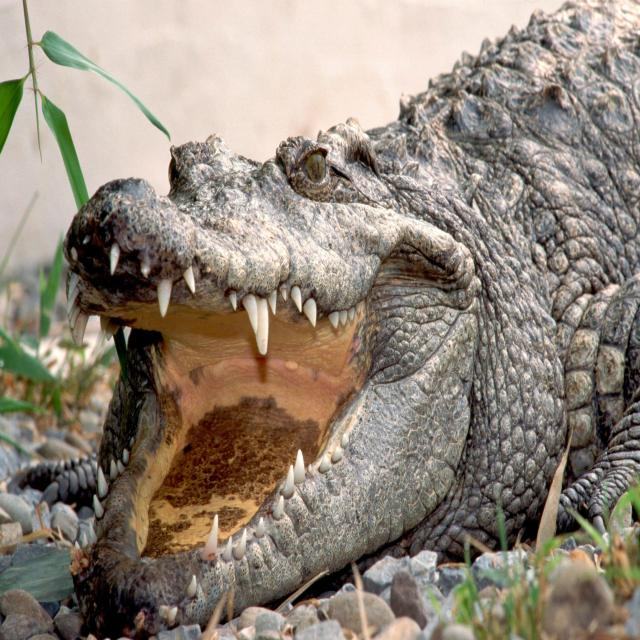crocodile: (14, 1, 640, 620)
